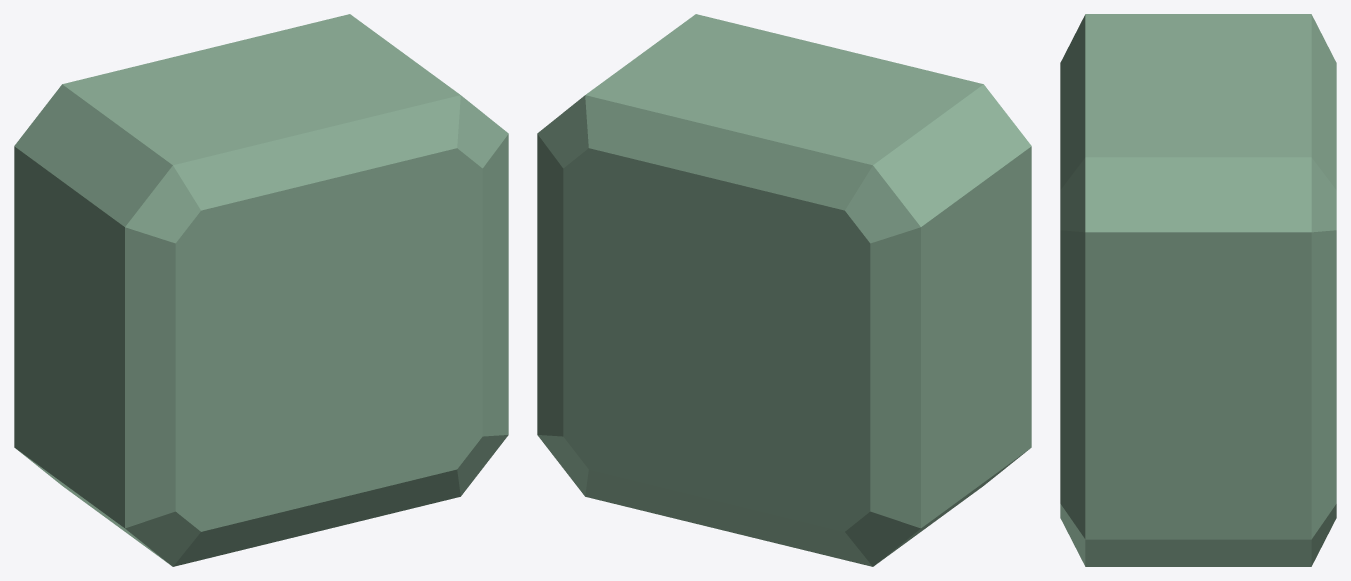
File: Snake_body_seg3.fbx
3 renders of one model, left to right at view 1: azimuth 30°, elevation 25°; view 2: azimuth 150°, elevation 25°; view 3: azimuth 270°, elevation 25°, orthographic. The views are drawn at different scales.
Parts seen in each view (by area): view 1: Cube; view 2: Cube; view 3: Cube.
Boxes of the visible parts, box(x1,y1,x2,y2) form: Cube: box(14, 14, 508, 566); Cube: box(537, 14, 1031, 566); Cube: box(1060, 14, 1336, 566).
Bounding box in the file's own units: 200 × 200 × 122.
